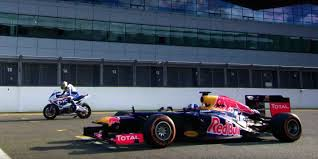FormulaOneCar: (82, 88, 305, 151)
